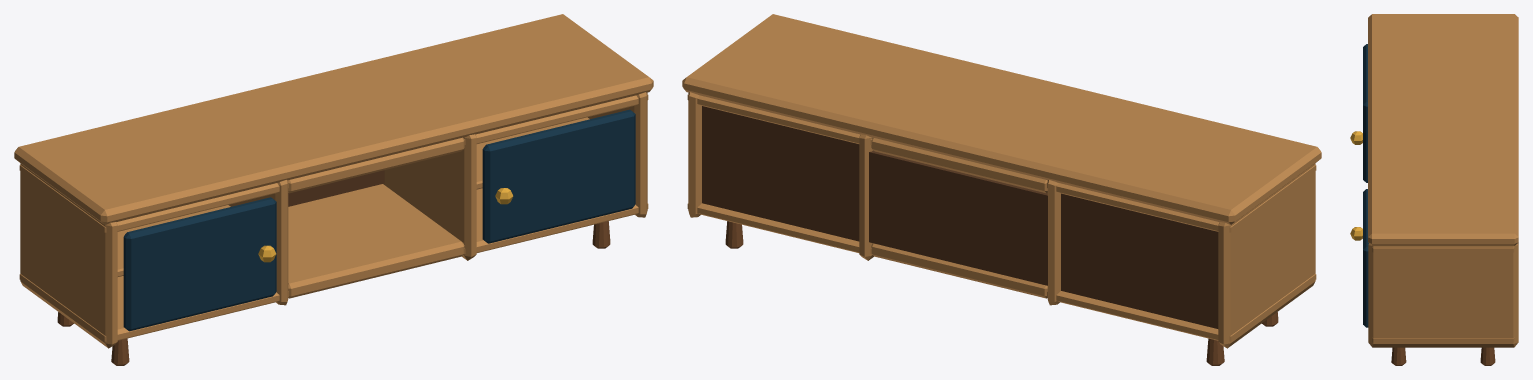
File: tv_console.glb
3 views of the same model, side by side, from view 1: azimuth 30°, elevation 25°; view 2: azimuth 150°, elevation 25°; view 3: azimuth 270°, elevation 25° (orthographic). The views are drawn at different scales.
Visible parts, largest first — view 1: tv_console, part_door_l, part_door_r; view 2: tv_console; view 3: tv_console, part_door_r, part_door_l.
Boxes of the visible parts, left/top/right/bottom form: tv_console: left=14, top=14, right=653, bottom=365; part_door_l: left=123, top=197, right=276, bottom=331; part_door_r: left=482, top=109, right=635, bottom=243; tv_console: left=682, top=14, right=1321, bottom=365; tv_console: left=1368, top=14, right=1518, bottom=365; part_door_r: left=1350, top=189, right=1368, bottom=327; part_door_l: left=1350, top=44, right=1367, bottom=182.
Bounding box in the file's own units: 1.54 × 0.46 × 0.492.
